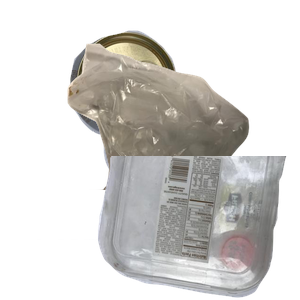glass: (37, 120, 231, 300)
metal: (68, 28, 237, 159)
plastic: (95, 156, 300, 300)
trash: (65, 41, 300, 221)
